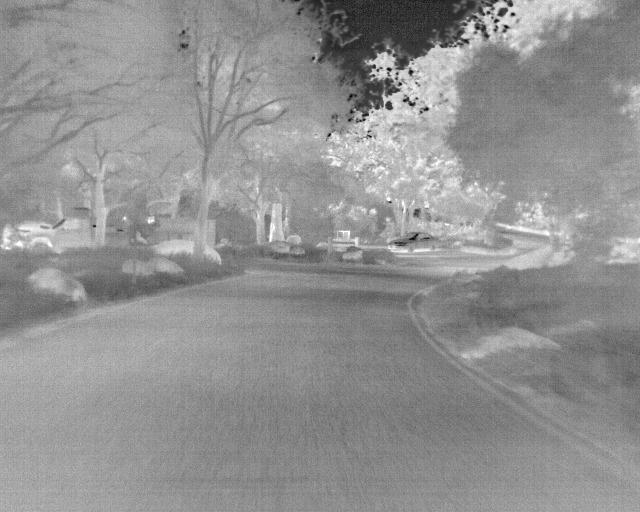car: (24, 213, 91, 251), (387, 232, 440, 255)
